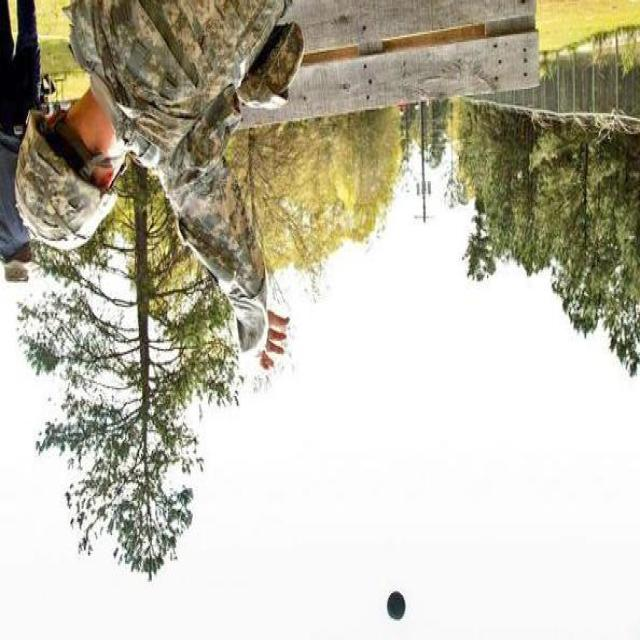grenade: (387, 588, 407, 622)
